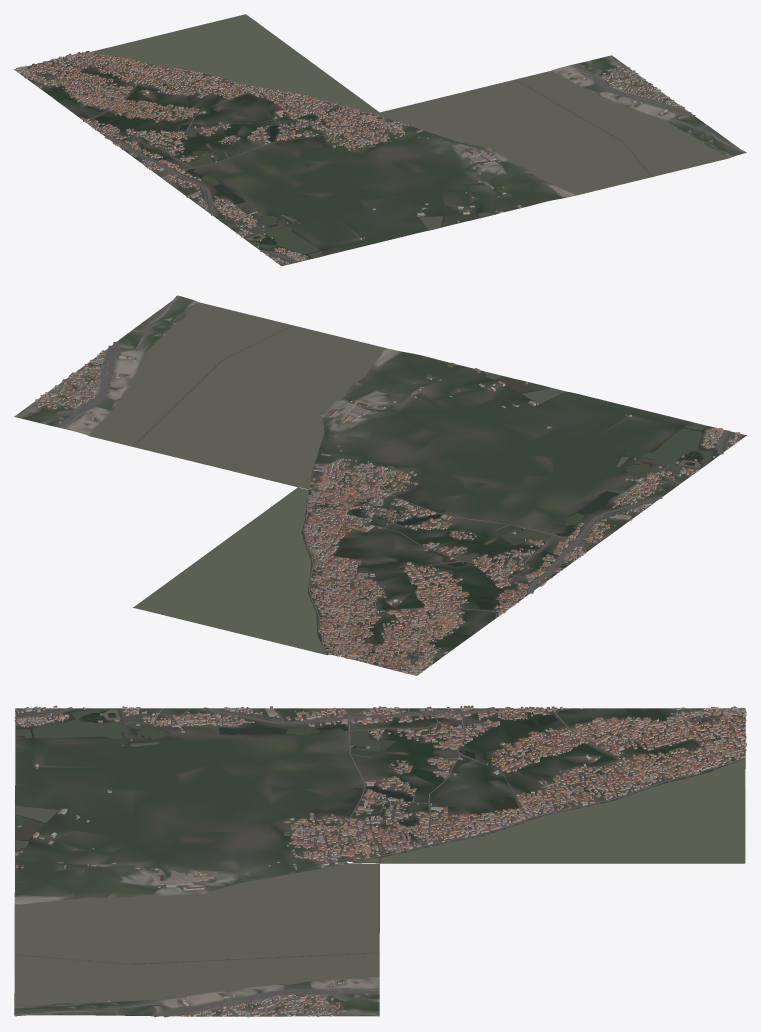
3 views of the same model, one above another, from view 1: azimuth 30°, elevation 25°; view 2: azimuth 150°, elevation 25°; view 3: azimuth 270°, elevation 25° (orthographic). The views are drawn at different scales.
Parts seen in each view (by area): view 1: ground, water, buildings, roads; view 2: ground, water, buildings, roads; view 3: ground, water, buildings, roads.
Part boxes in pixels (box(x1,y1,x2,y2)): ground: box(14, 21, 743, 265); water: box(84, 14, 727, 258); buildings: box(16, 51, 703, 264); roads: box(16, 52, 746, 265); ground: box(14, 296, 746, 675); water: box(89, 302, 713, 654); buildings: box(35, 322, 741, 674); roads: box(35, 295, 745, 673); ground: box(14, 708, 745, 1016); water: box(14, 708, 745, 1006); buildings: box(14, 705, 746, 1017); roads: box(14, 707, 745, 1017).
Size of the model in its own units: 2817 by 22.53 by 2814.
